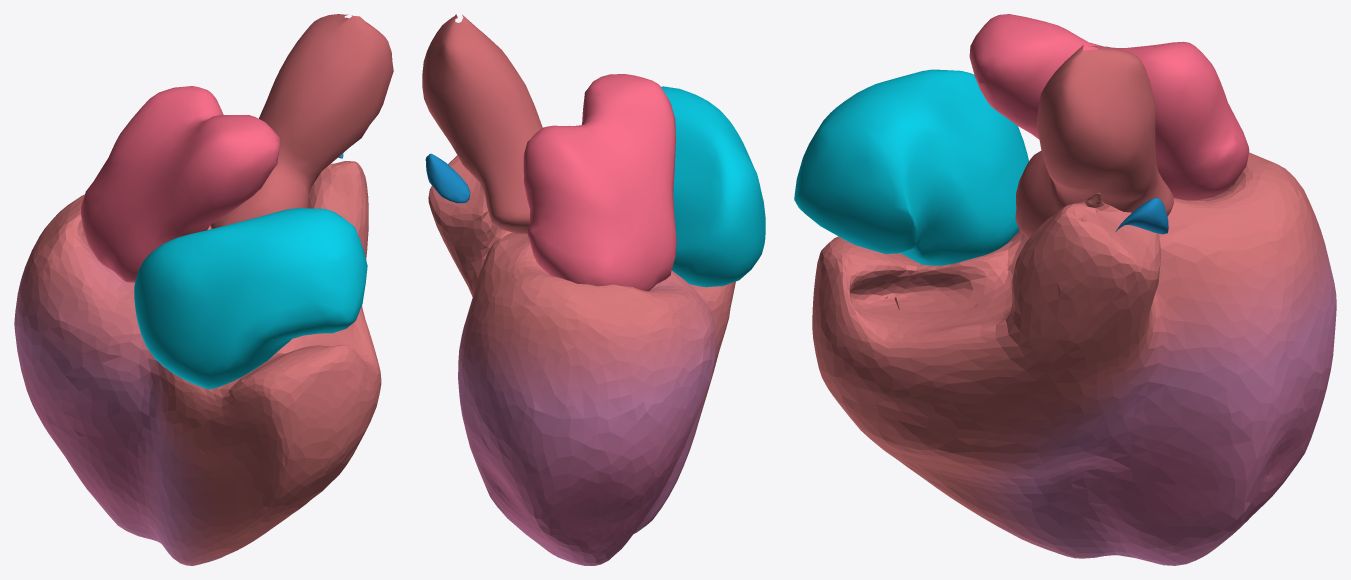
The model's file is frame_25.glb.
3 renders of one model, left to right at view 1: azimuth 30°, elevation 25°; view 2: azimuth 150°, elevation 25°; view 3: azimuth 270°, elevation 25°, orthographic. The views are drawn at different scales.
Visible parts, largest first — view 1: Renderer Node; view 2: Renderer Node; view 3: Renderer Node.
Boxes of the visible parts, x1,y1,x2,y2 form: Renderer Node: (14, 14, 393, 565); Renderer Node: (422, 14, 765, 565); Renderer Node: (794, 14, 1336, 565).
Bounding box in the file's own units: 100 × 153 × 123.
